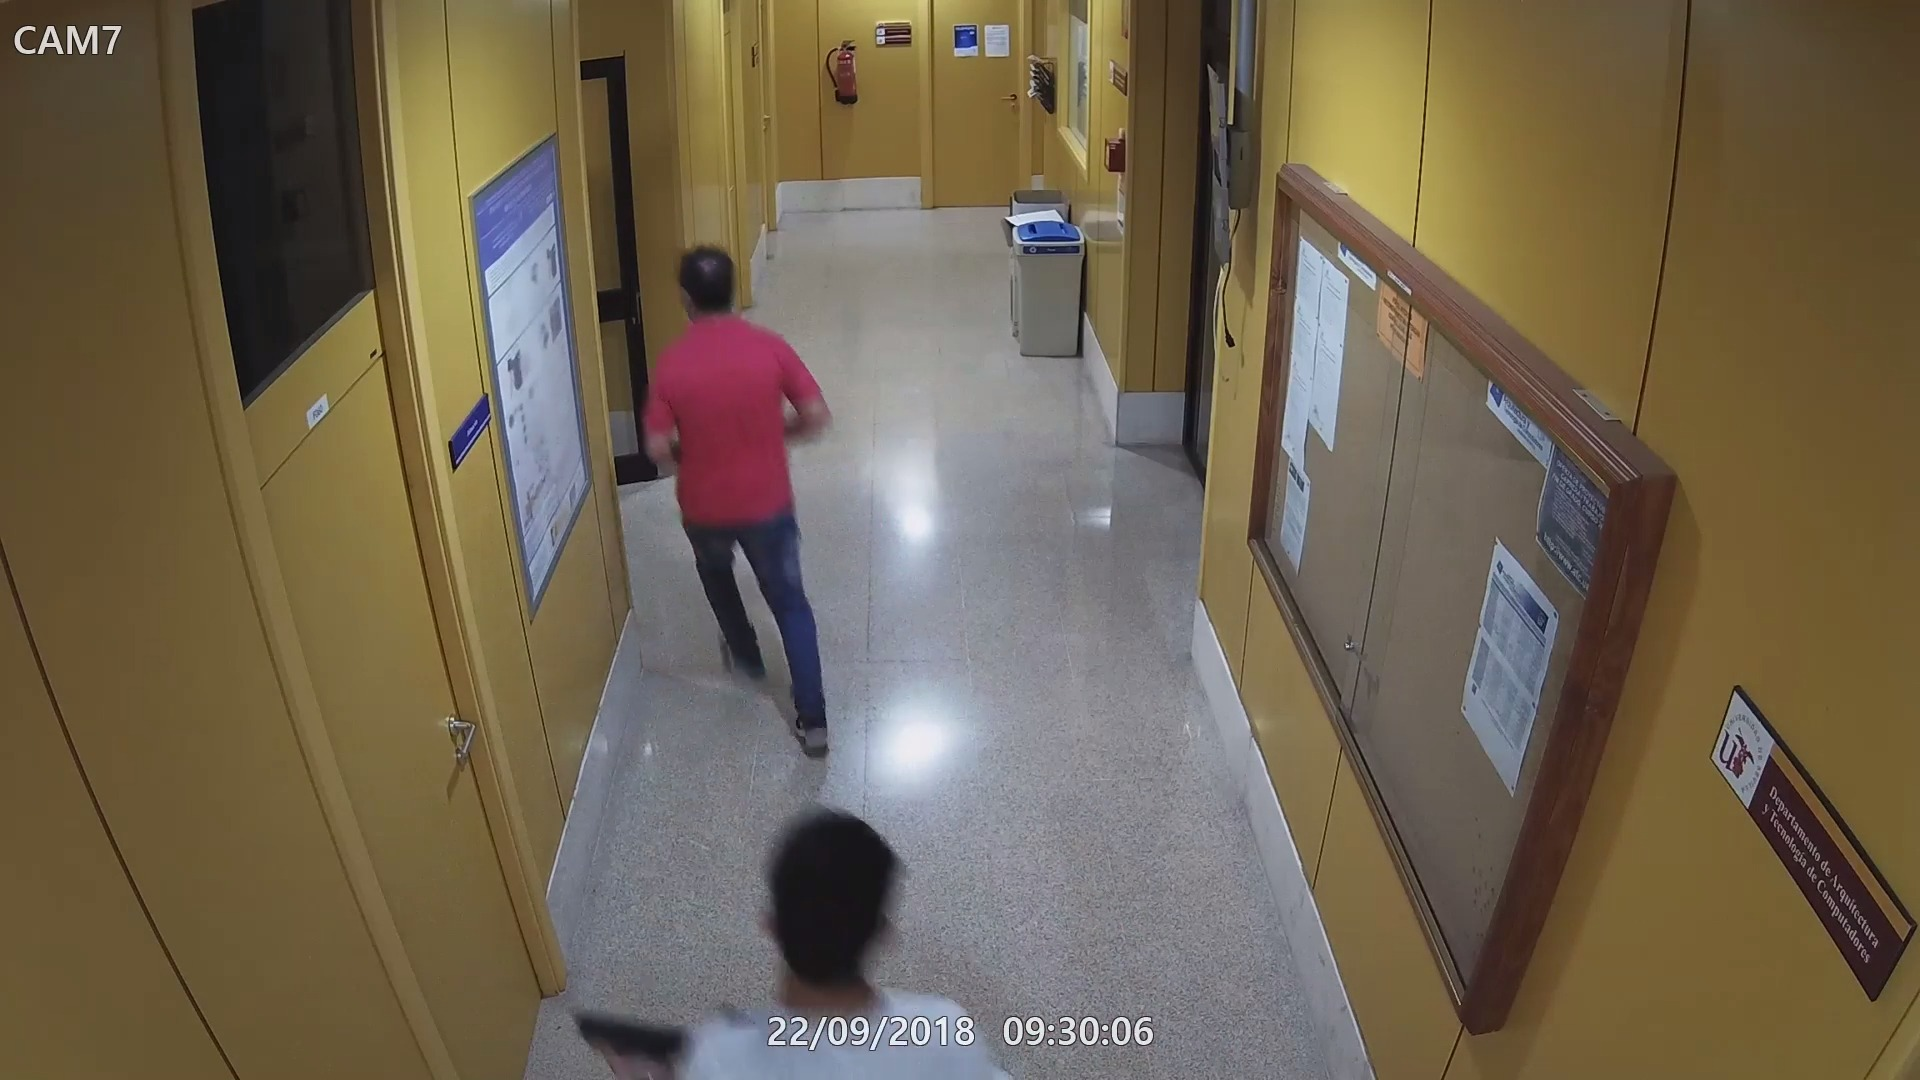Short_rifle: (564, 998, 694, 1060)
